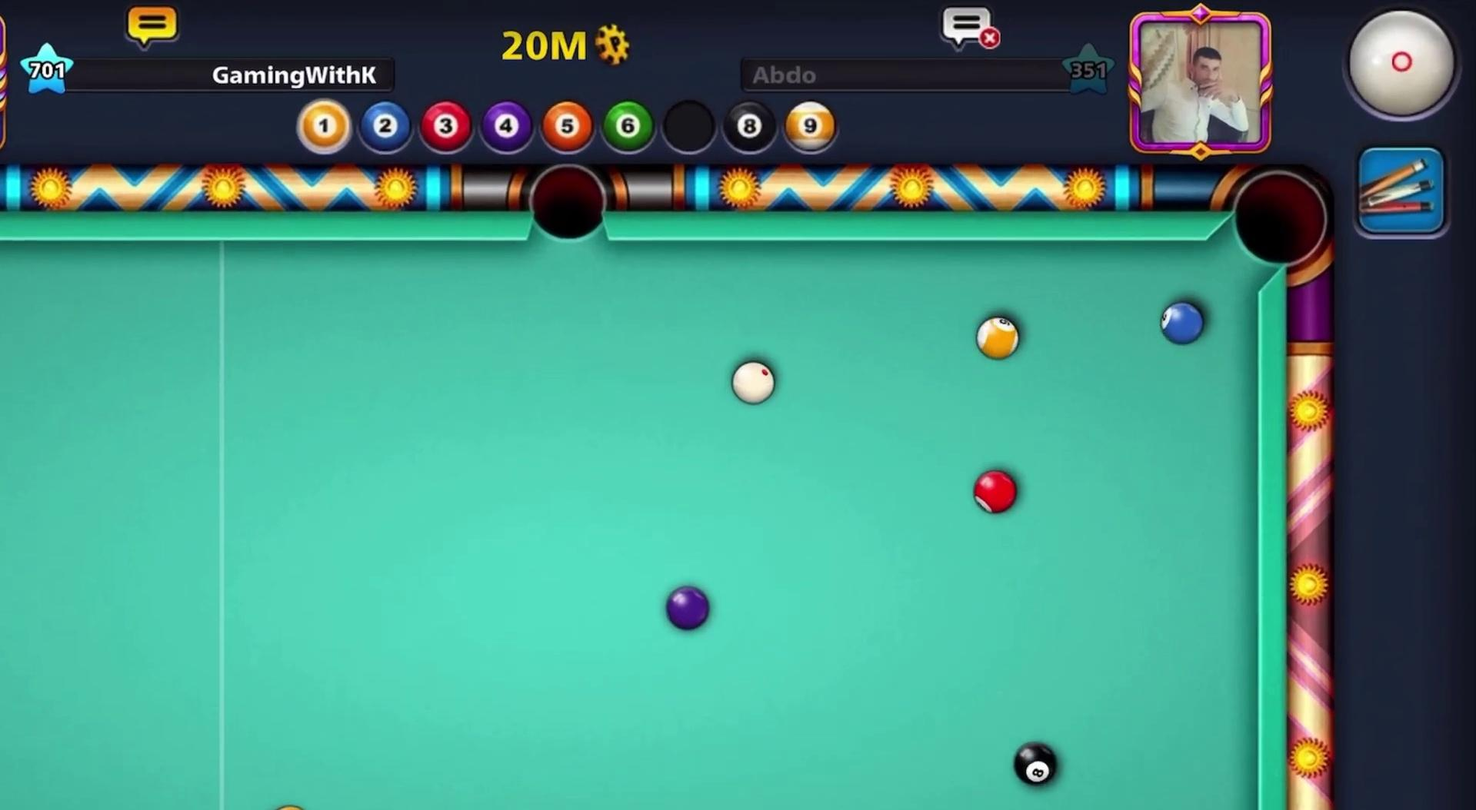Ball: (658, 579, 720, 639), (968, 462, 1024, 521), (973, 307, 1023, 372), (1008, 737, 1065, 791), (1160, 298, 1204, 351)
Hole: (1219, 160, 1339, 288), (515, 151, 615, 251)
Play_Area: (0, 238, 1254, 809)
Spin: (1309, 1, 1475, 141)
White: (721, 353, 783, 410)
